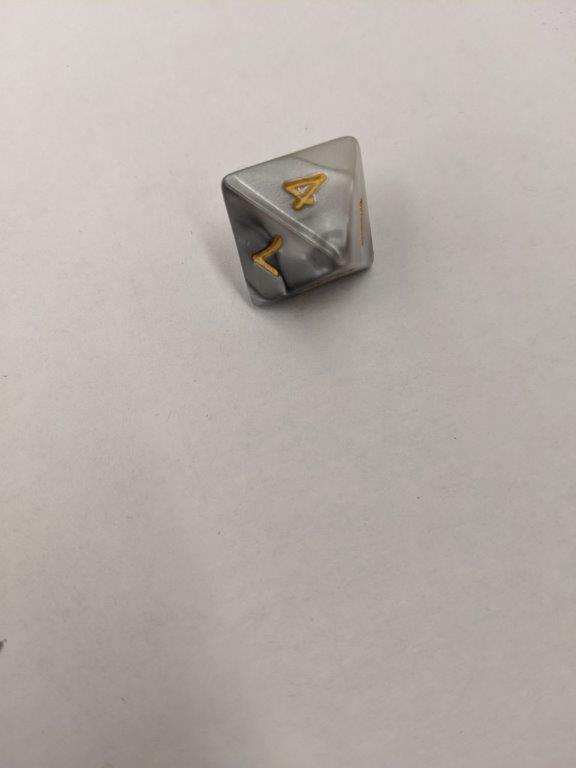d8-4: (218, 135, 375, 311)
